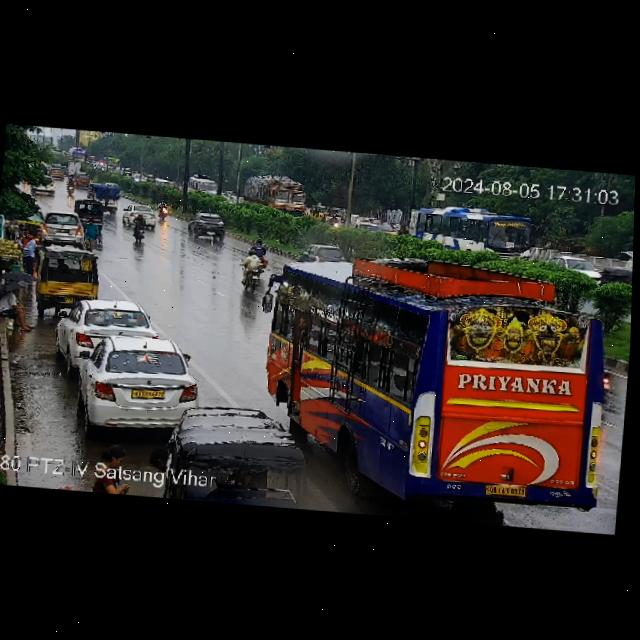bus: (243, 246, 626, 535), (399, 195, 530, 264), (185, 173, 223, 198), (65, 147, 89, 161)
car: (77, 332, 204, 438), (51, 292, 158, 372), (36, 207, 87, 248), (296, 237, 348, 265), (188, 210, 225, 241), (542, 255, 605, 273), (122, 201, 158, 229), (353, 221, 383, 235)
motorcycle: (241, 248, 260, 292), (250, 237, 271, 271), (131, 212, 150, 245), (155, 197, 170, 225)
person: (0, 280, 36, 340), (19, 228, 40, 284), (82, 216, 102, 255)
truck: (236, 170, 307, 218), (85, 177, 118, 215)
